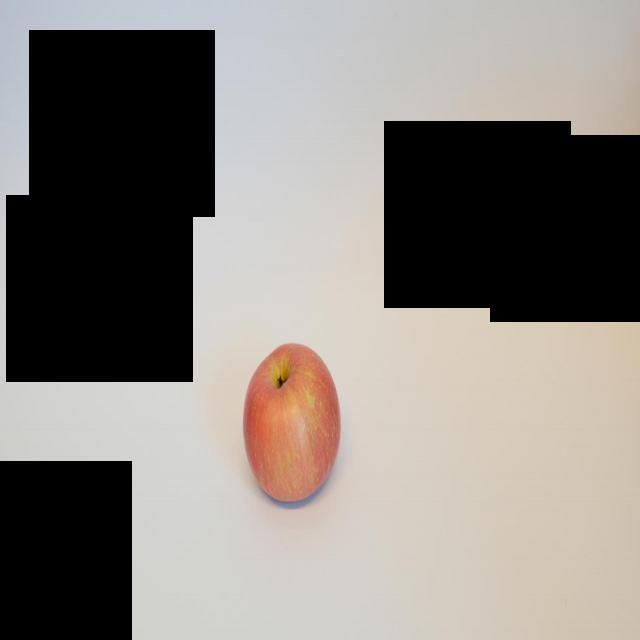apple: (242, 349, 344, 506)
